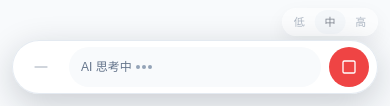
Test: AppFloatingComposer › animates thinking status instead of treating it as user input
Expected: the text "A" is shown, left=81, top=57, right=89, bottom=77
Expected: the 1st element with class "app-composer-think-dot" is shown, left=136, top=65, right=140, bottom=69
Focus the text box named "快捷创作指令" at (195, 67), box left=69, top=47, right=321, bottom=87
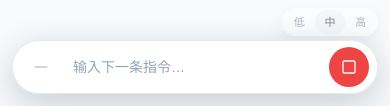
Expected: the element with test id "app-composer-thinking" is gone
